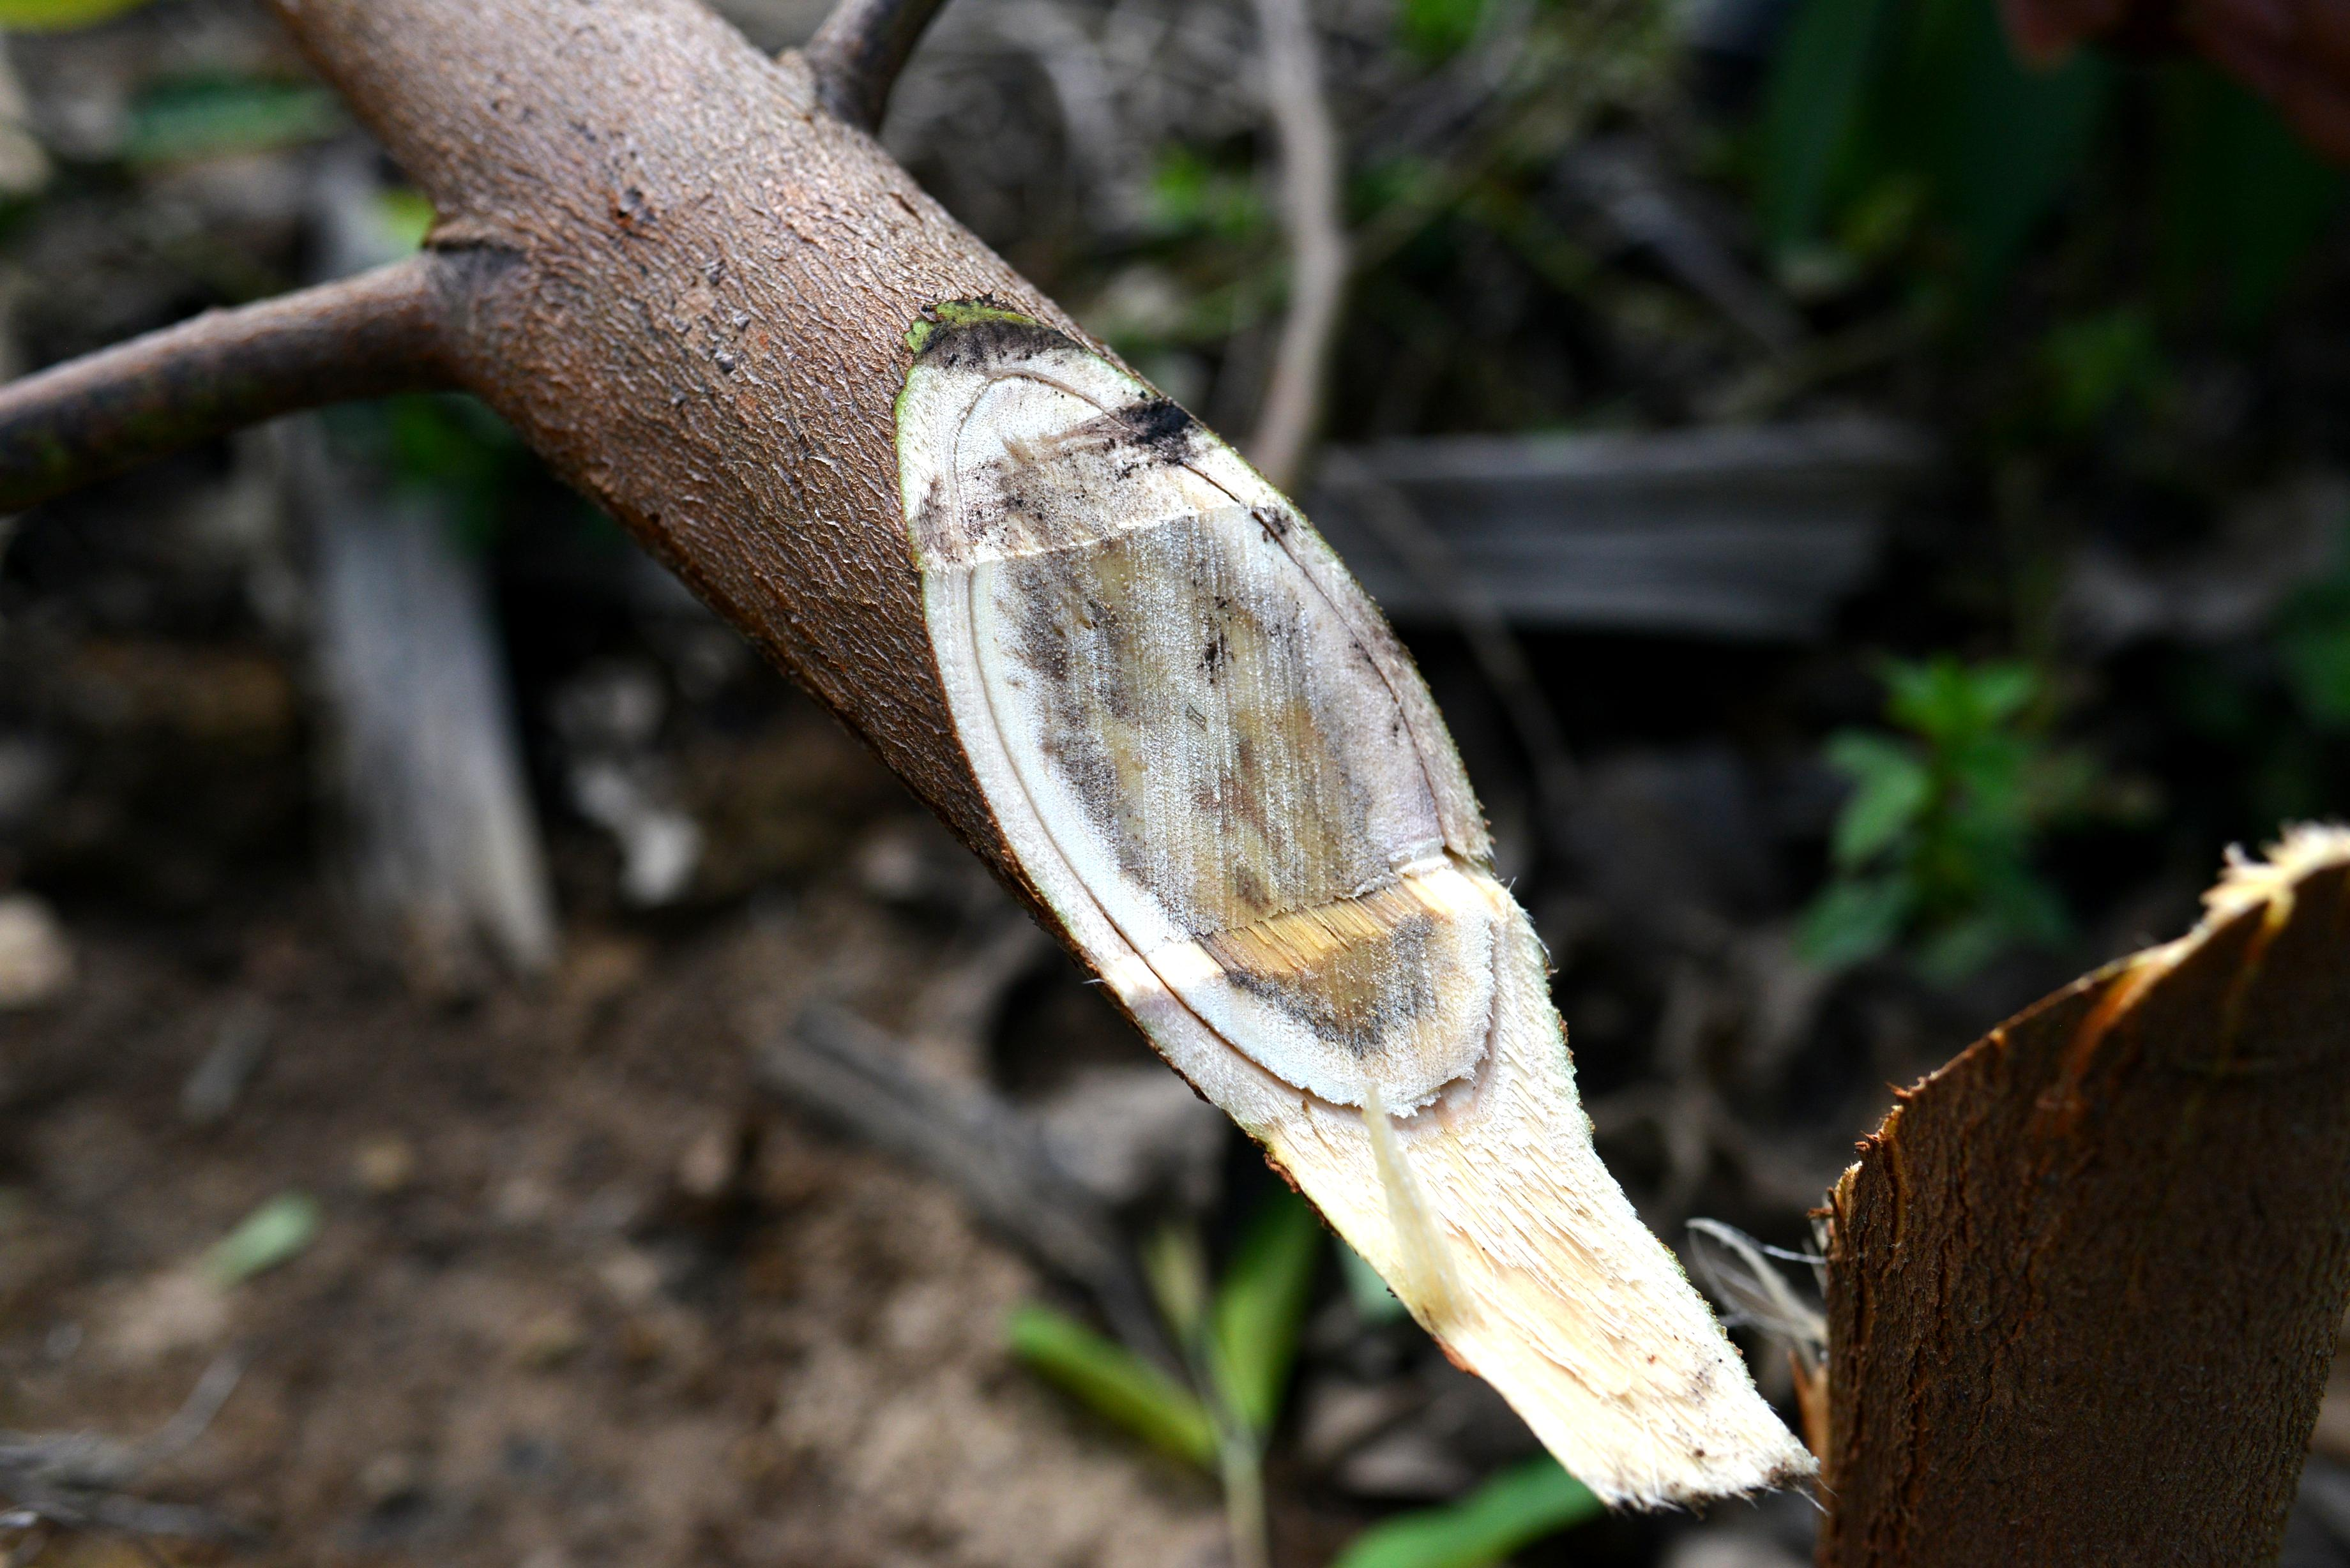Ralstonia: (1022, 439, 1232, 584), (1141, 611, 1232, 931), (1244, 544, 1319, 889), (1010, 611, 1127, 796), (1368, 905, 1454, 1060), (1349, 700, 1410, 892)
